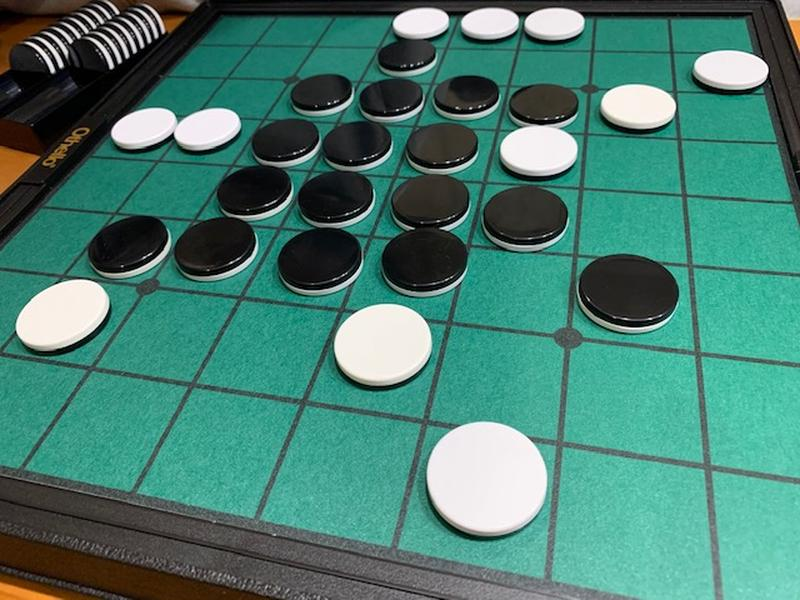black: (570, 249, 701, 352), (360, 219, 486, 305), (72, 207, 197, 290), (473, 173, 582, 257), (264, 222, 374, 305), (205, 156, 308, 231), (286, 158, 390, 232), (398, 117, 490, 182), (289, 67, 359, 126)
white: (414, 411, 562, 558), (324, 295, 440, 394), (9, 272, 118, 364), (486, 112, 585, 187), (587, 70, 686, 140), (102, 97, 186, 166), (165, 105, 255, 158), (387, 3, 456, 45)
